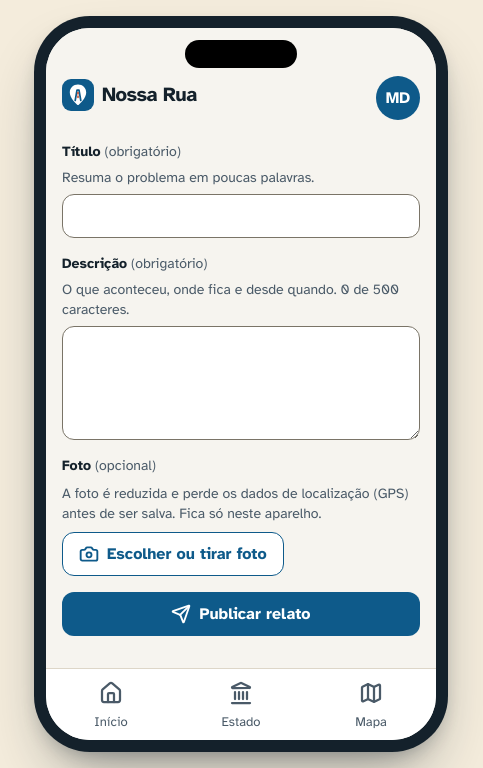
Relatar um problema › mostra os erros de cada campo ao enviar vazio
(page scrolled)
Click the button "Publicar relato" at x=241, y=614, box [62,592,420,636]
(page scrolled)
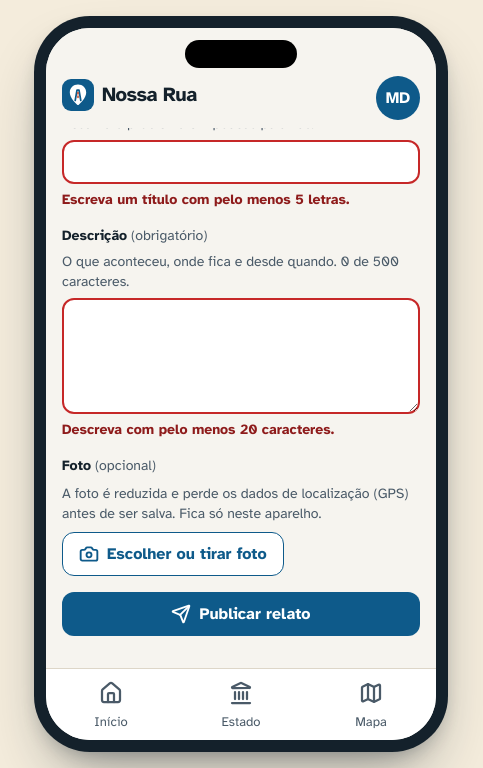
Expected: the text "Escreva um título com pelo menos 5 letras." is shown, [62,191,350,208]
Expected: the text "Descreva com pelo menos 20 caracteres." is shown, [62,421,334,438]
